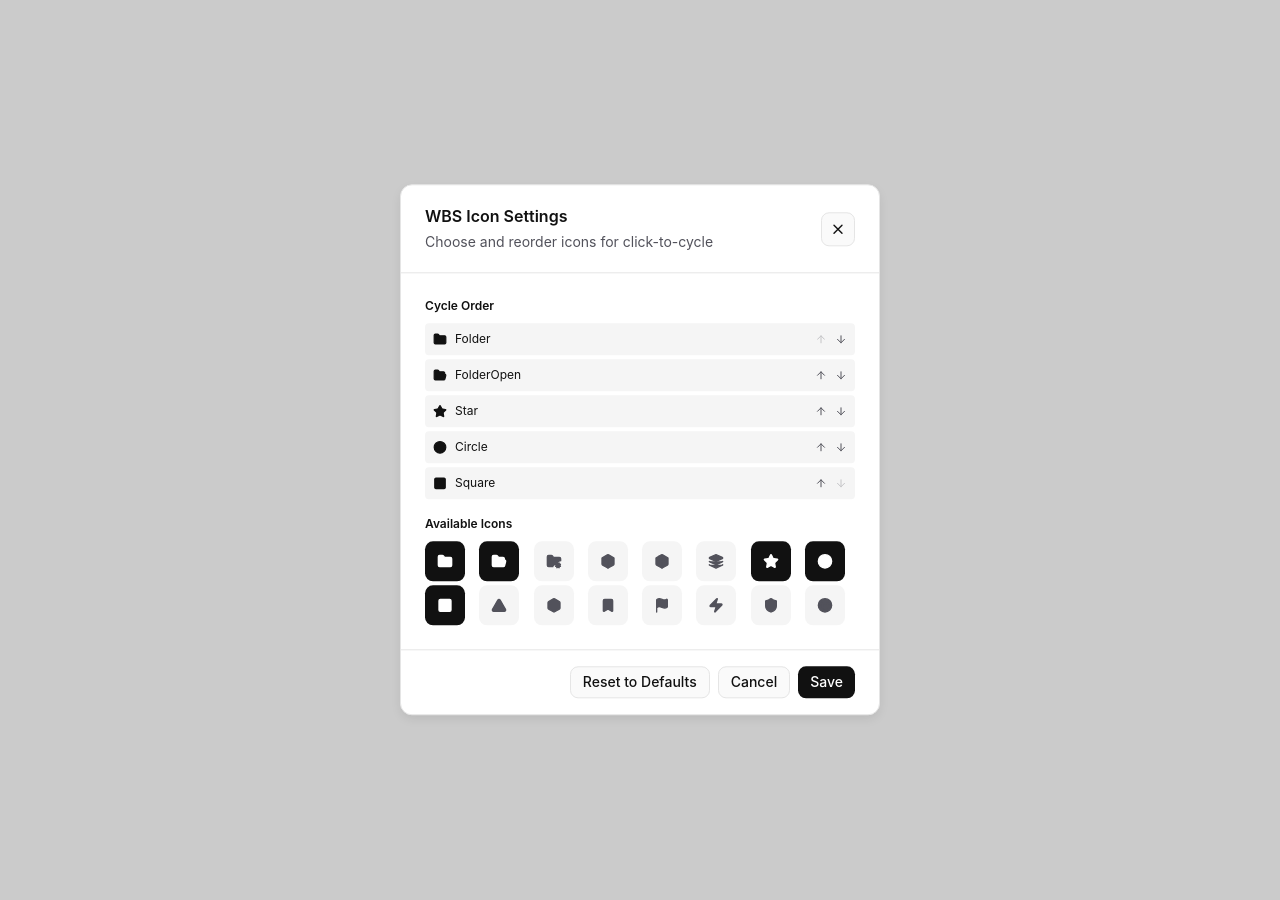
Test case: WbsIconSettingsModal › toggles an icon on when clicked
Click the button with test id "icon-toggle-Box" at (608, 562), box [588, 542, 628, 582]
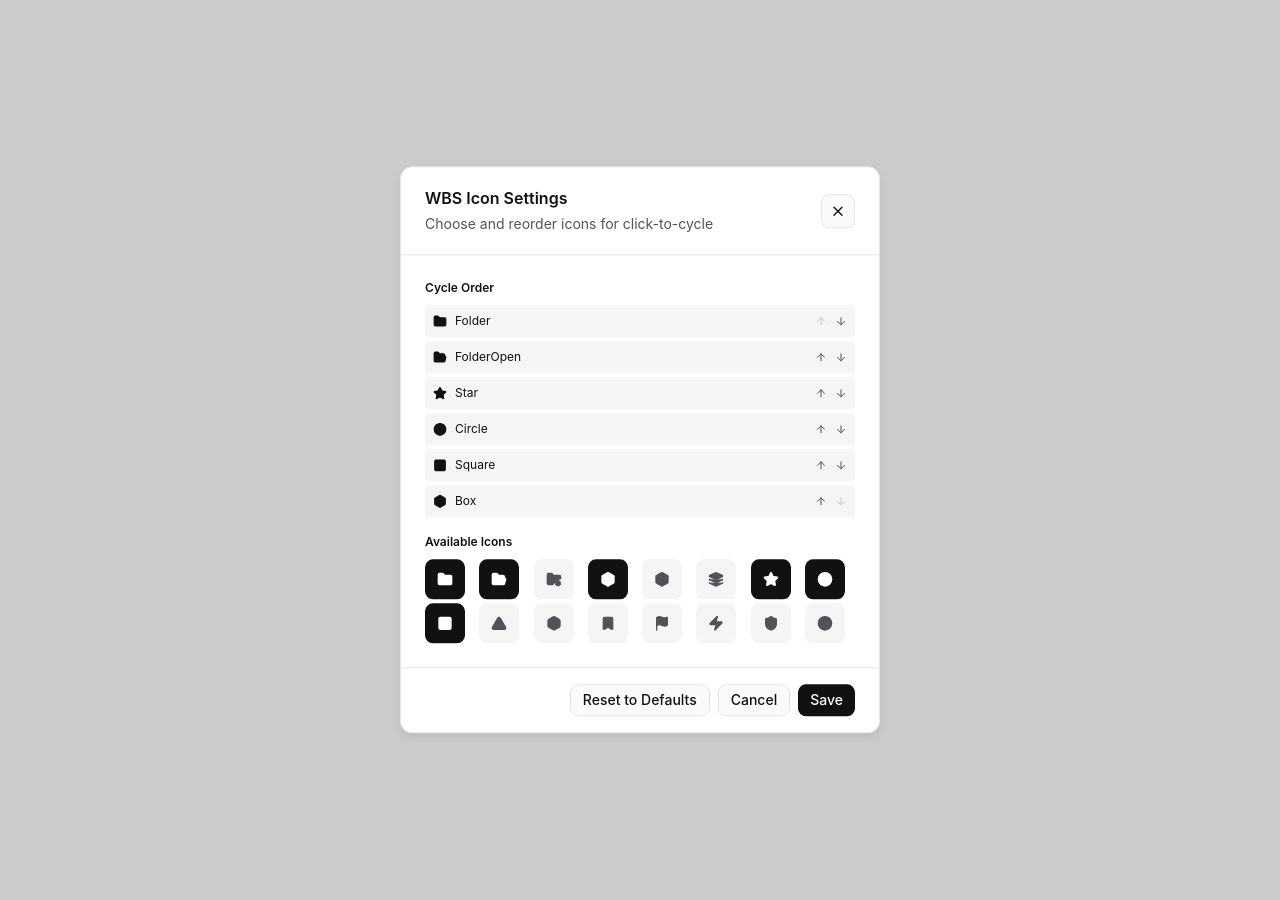
expect the element with test id "cycle-item-Box" is shown: met, box [425, 486, 855, 518]
